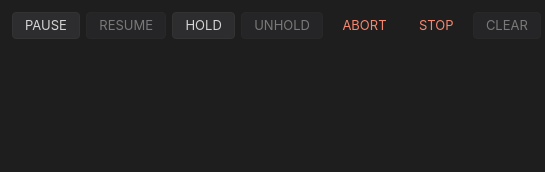
Test: CommandBar › disables all buttons while a command is in flight
What coordinates should you click on to do the following:
click the button "PAUSE"
I would click on:
 (46, 26)
Its box is [12,12,80,39].
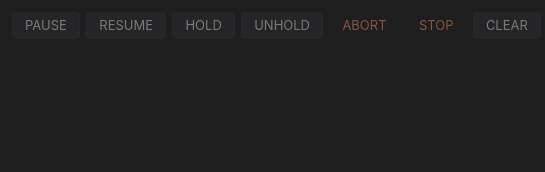
Check: the button "PAUSE" is disabled, box [12,12,80,39]
Check: the button "HOLD" is disabled, box [172,12,235,39]
